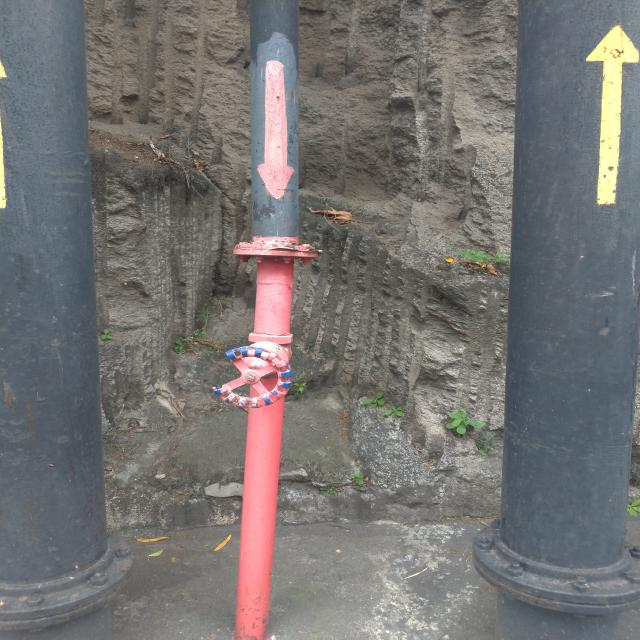gas: (501, 0, 639, 640), (2, 2, 109, 602), (237, 2, 298, 638)
